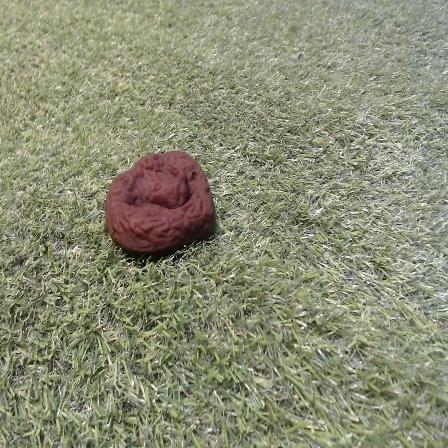dog-poop: (108, 144, 213, 250)
